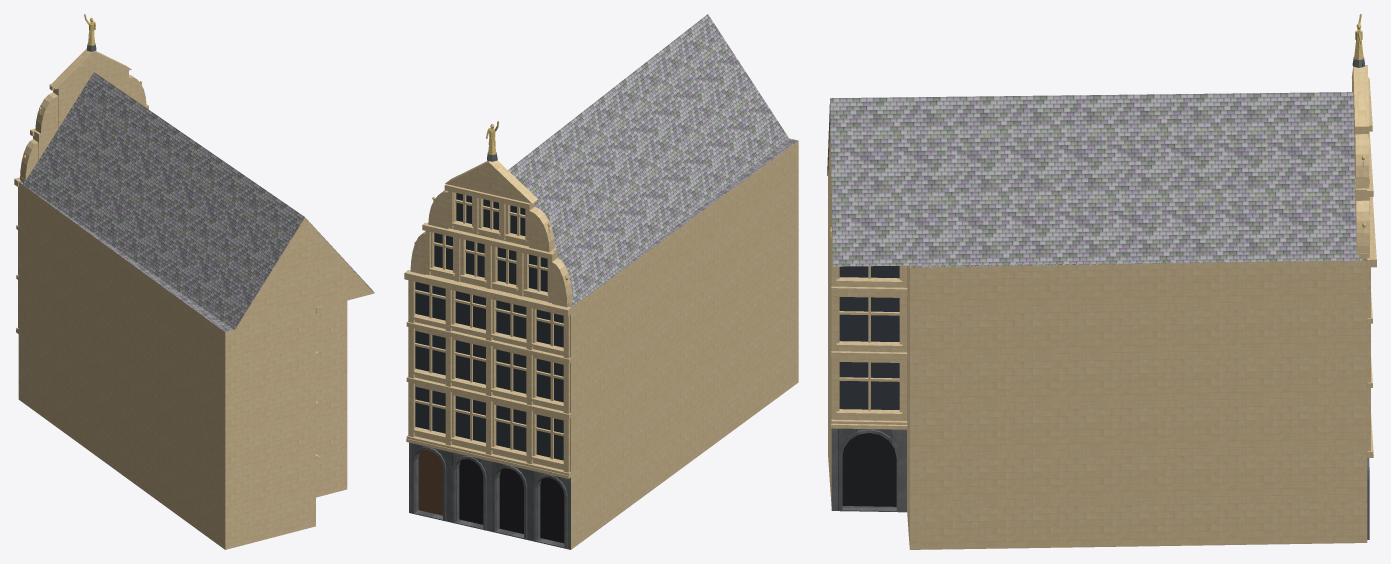
3 views of the same model, side by side, from view 1: azimuth 30°, elevation 25°; view 2: azimuth 150°, elevation 25°; view 3: azimuth 270°, elevation 25° (orthographic). The views are drawn at different scales.
Visible parts, largest first — view 1: bldg_496944526_landmark; view 2: bldg_496944526_landmark; view 3: bldg_496944526_landmark.
Boxes of the visible parts, x1,y1,x2,y2 form: bldg_496944526_landmark: (14, 14, 374, 549); bldg_496944526_landmark: (404, 14, 798, 549); bldg_496944526_landmark: (827, 14, 1376, 549).
Size of the model in its own units: 10.46 by 23.77 by 24.69.
Materials: 7 (3 with a texture image).
